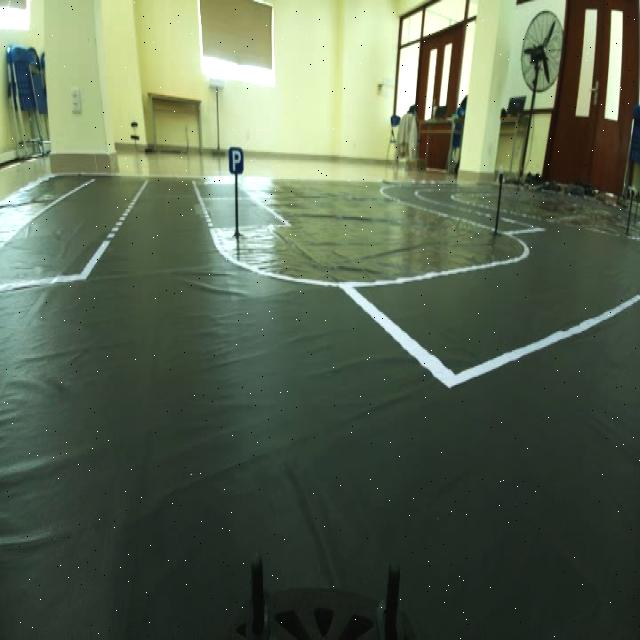parking: (223, 140, 252, 178)
